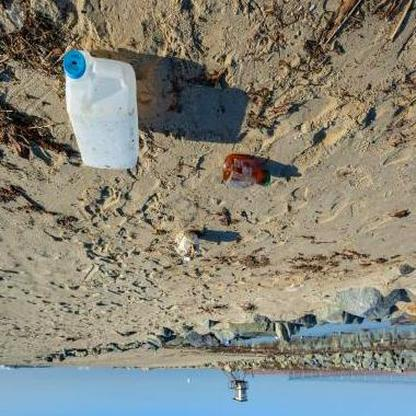plastic bottle: (62, 48, 141, 171)
